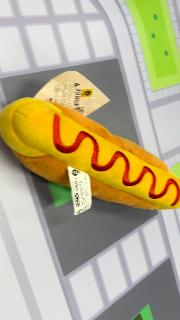hotdog: (1, 96, 179, 212)
